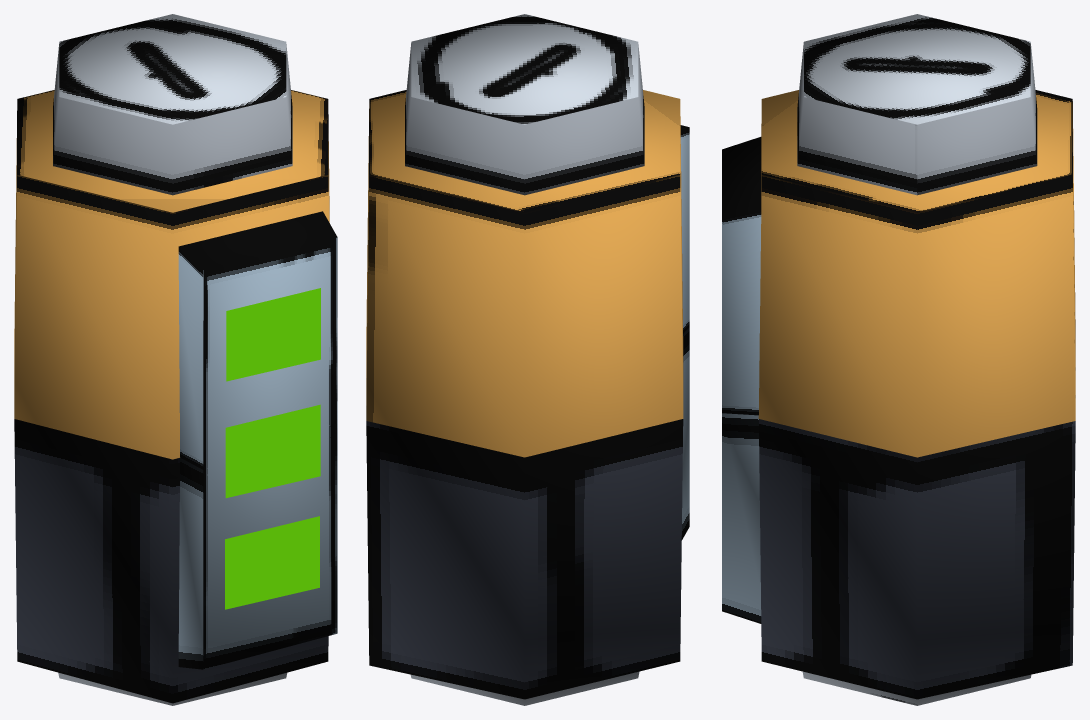
The model's file is Battery.glb.
3 views of the same model, side by side, from view 1: azimuth 30°, elevation 25°; view 2: azimuth 150°, elevation 25°; view 3: azimuth 270°, elevation 25° (orthographic).
Visible parts, largest first — view 1: Battery; view 2: Battery; view 3: Battery.
Part boxes in pixels (left/top/right/bottom): Battery: left=14, top=14, right=337, bottom=705; Battery: left=366, top=14, right=689, bottom=705; Battery: left=722, top=14, right=1075, bottom=705.
Size of the model in its own units: 0.3395 by 0.5951 by 0.3317.
Materials: 1 (1 with a texture image).
